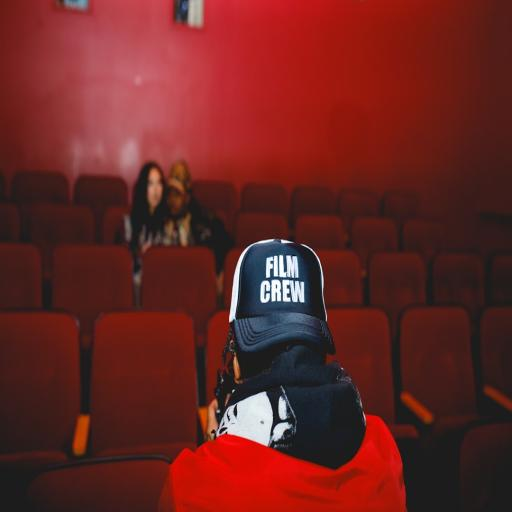face: (147, 168, 163, 214), (167, 187, 190, 217)
